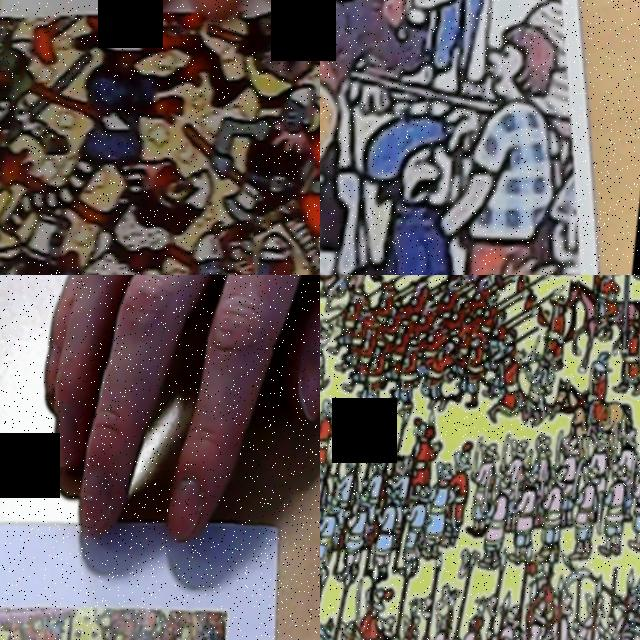waldo: (220, 214, 267, 275), (398, 449, 416, 475)
